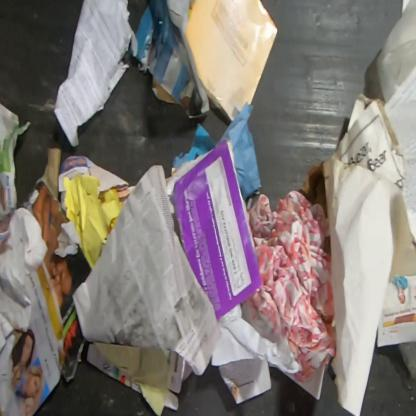soft_plastic: (375, 0, 415, 105)
